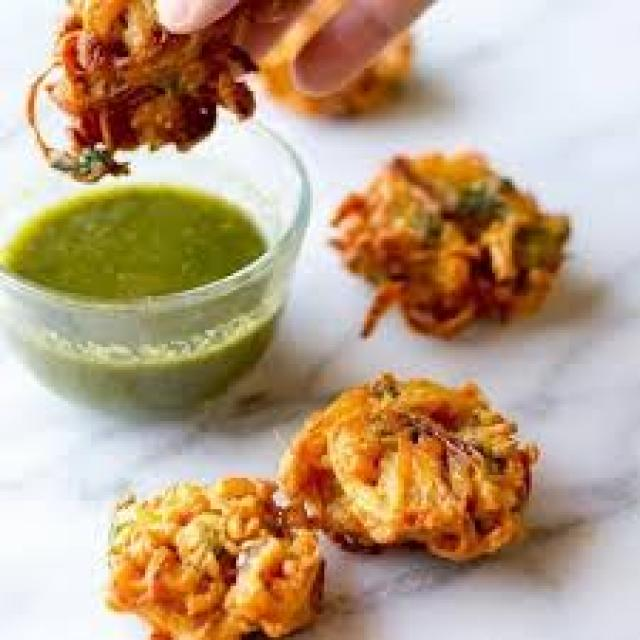BAJI: (352, 166, 581, 332), (285, 386, 522, 544), (112, 474, 328, 631), (67, 7, 227, 164)
